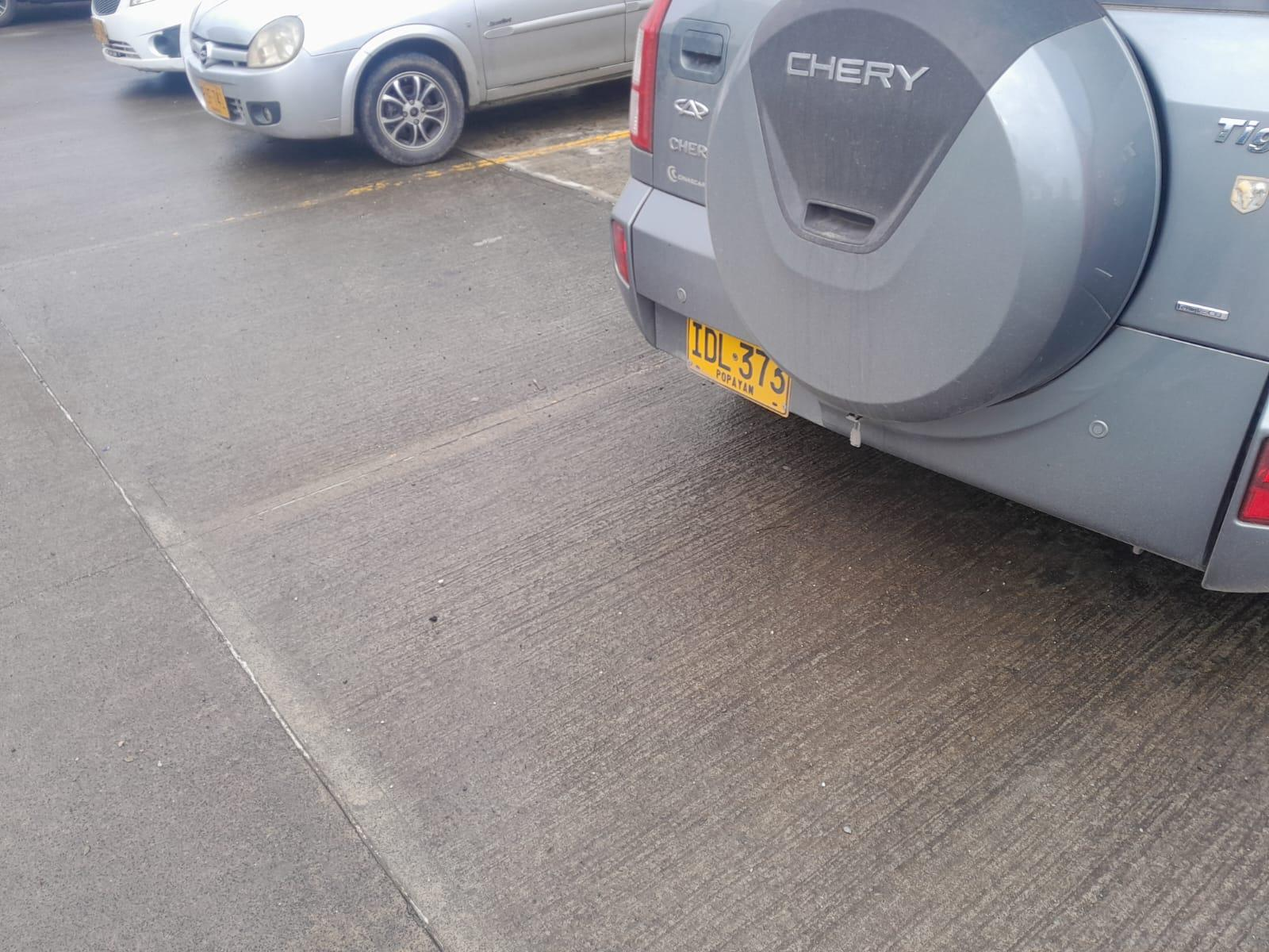placa: (688, 321, 791, 414)
